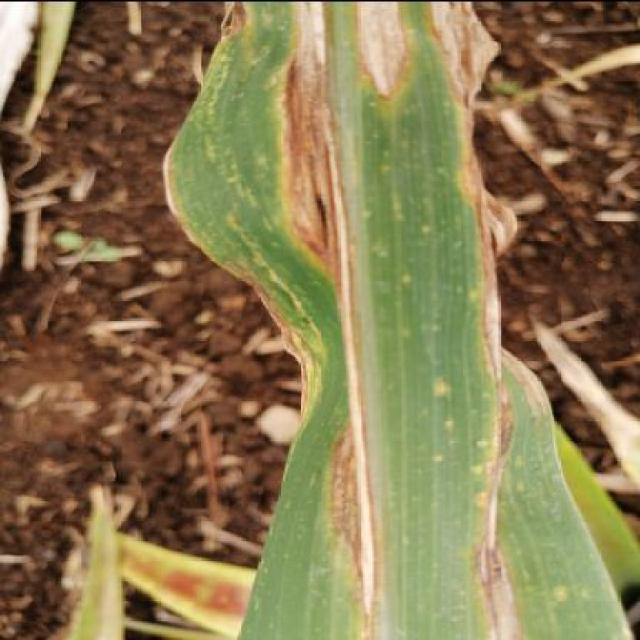Corn_Leaf_Blight: (150, 0, 636, 640)
